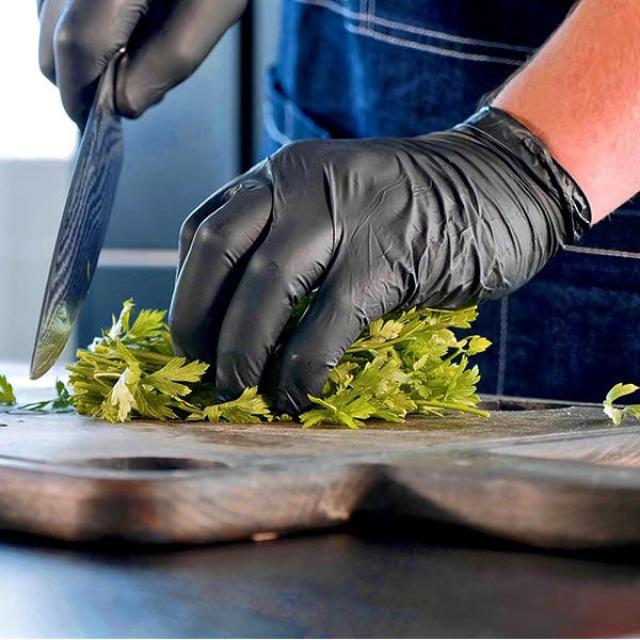gloves: (165, 97, 596, 417), (35, 0, 251, 125)
